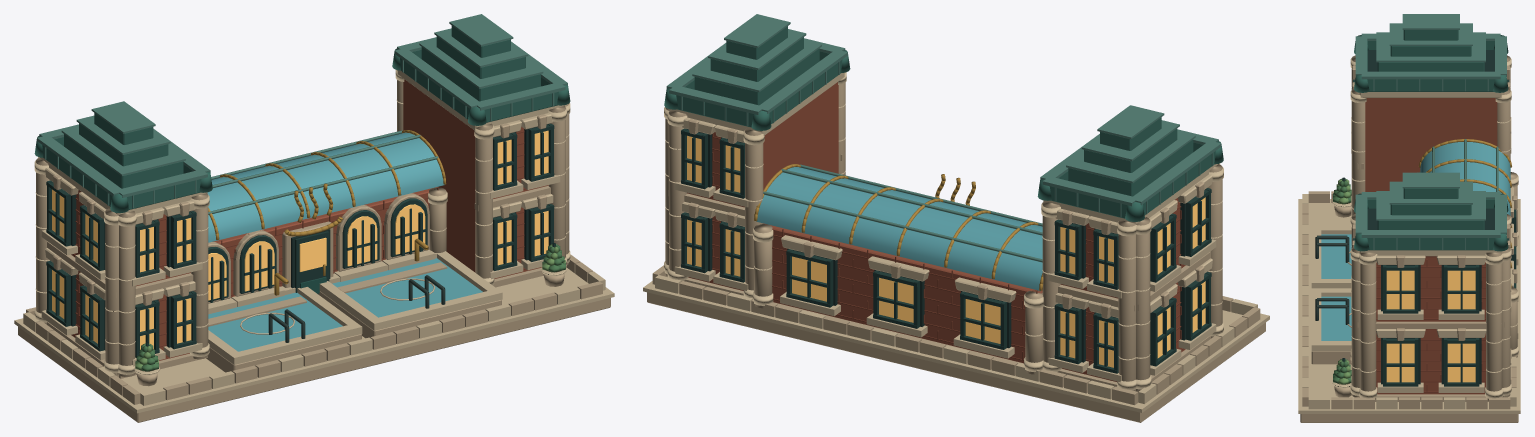
3 views of the same model, side by side, from view 1: azimuth 30°, elevation 25°; view 2: azimuth 150°, elevation 25°; view 3: azimuth 270°, elevation 25° (orthographic). The views are drawn at different scales.
Visible parts, largest first — view 1: expansion_onsen_2_geometry; view 2: expansion_onsen_2_geometry; view 3: expansion_onsen_2_geometry.
Boxes of the visible parts, left/top/right/bottom form: expansion_onsen_2_geometry: left=14, top=14, right=614, bottom=422; expansion_onsen_2_geometry: left=643, top=14, right=1269, bottom=422; expansion_onsen_2_geometry: left=1298, top=14, right=1520, bottom=422.
Size of the model in its own units: 2.3 by 1.1 by 1.02.
